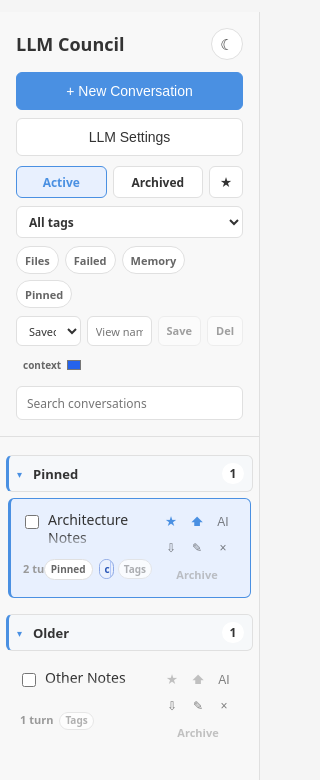
Test case: Sidebar conversation management controls › shows a dismissible status when title generation fails
The image size is (320, 780).
Click the button titled "Auto title with LLM" next to "Architecture Notes". click: (223, 522)
box: [212,511,234,533]
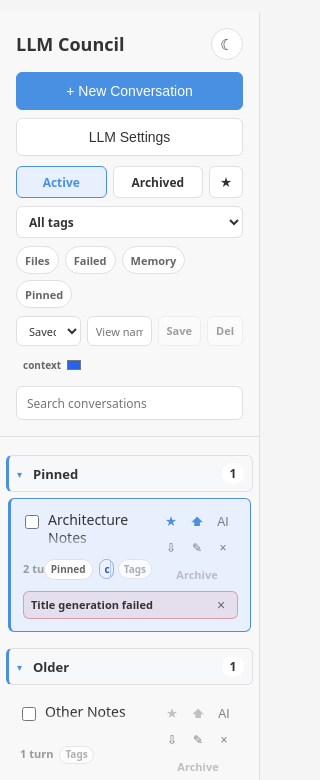
Check: the text "Title generation failed" is shown, box [31,598,153,612]
Click the button named "Dismiss title status". click: (221, 605)
box: [212,596,230,614]
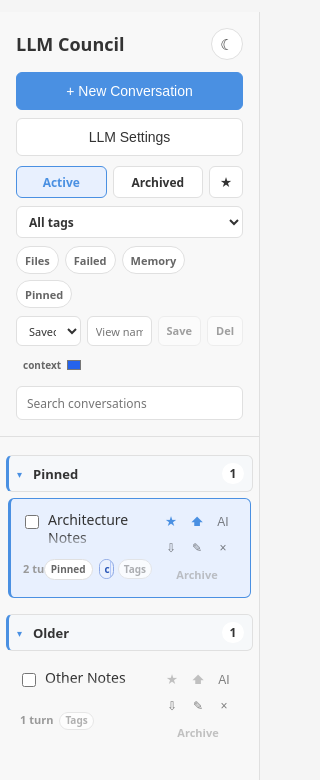
Check: the text "Title generation failed" is gone
